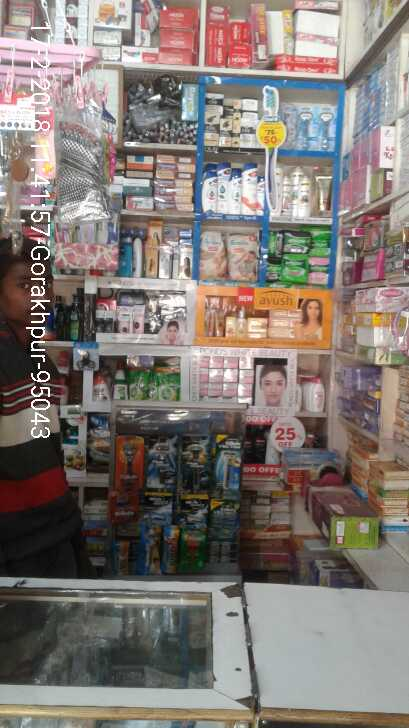gillete: (217, 433, 244, 491), (87, 416, 112, 474), (184, 435, 213, 484), (119, 433, 144, 489), (150, 440, 175, 483), (142, 527, 162, 574), (180, 495, 208, 520), (164, 528, 179, 574), (147, 491, 173, 517), (215, 534, 235, 564), (212, 505, 236, 523)
venus: (296, 106, 317, 151), (317, 106, 336, 151), (281, 106, 296, 144)
